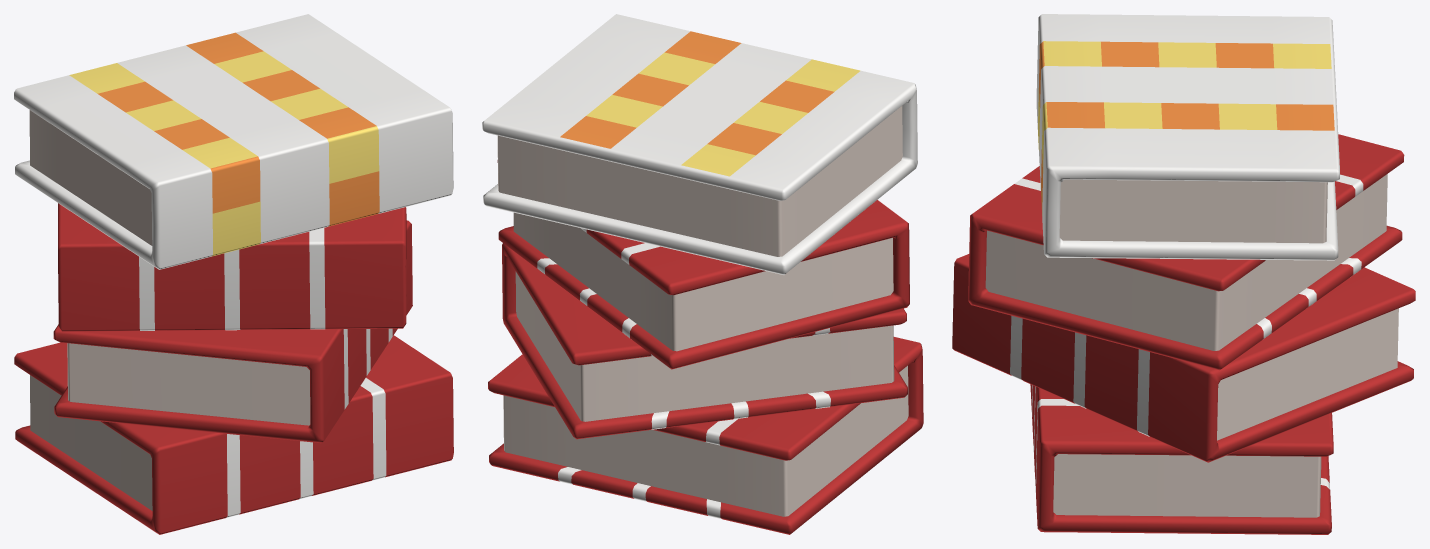
The model's file is Book_2.glb.
3 views of the same model, side by side, from view 1: azimuth 30°, elevation 25°; view 2: azimuth 150°, elevation 25°; view 3: azimuth 270°, elevation 25° (orthographic). The views are drawn at different scales.
Parts seen in each view (by area): view 1: Books_8; view 2: Books_8; view 3: Books_8.
Boxes of the visible parts, bbox=[...] form: Books_8: bbox=[14, 14, 453, 534]; Books_8: bbox=[482, 14, 923, 534]; Books_8: bbox=[952, 14, 1415, 534].
Size of the model in its own units: 0.3954 by 0.3528 by 0.397.
1 material, 1 textured.
